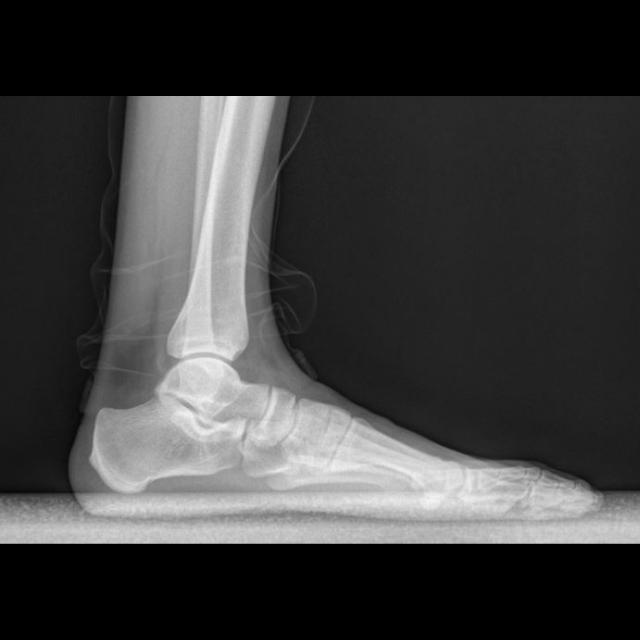a: (90, 389, 246, 494)
b: (253, 385, 299, 449)
c: (320, 418, 465, 494)
